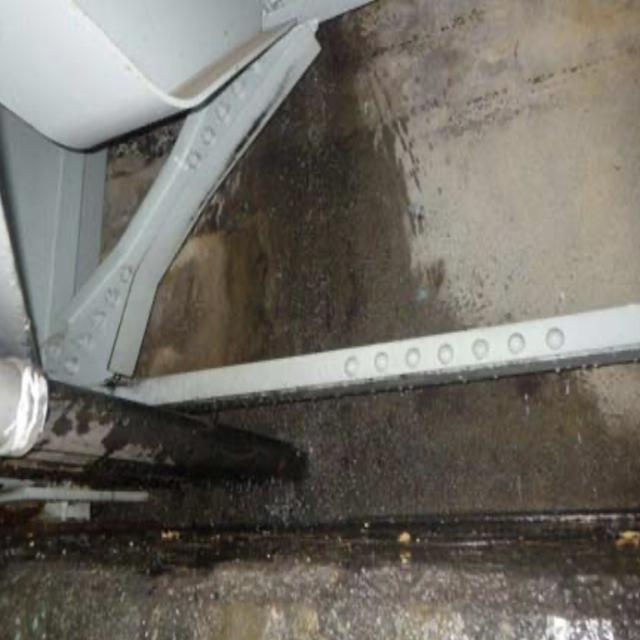leakage: (224, 23, 600, 520)
